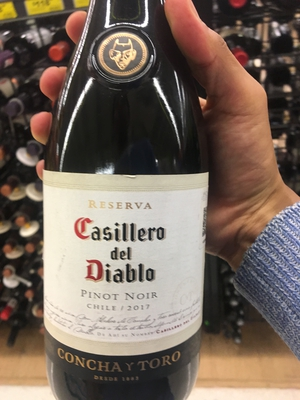casillero del diablo pinot noir: (29, 8, 222, 394)
